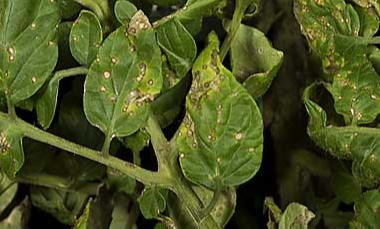Tomato Septoria leaf spot: (180, 26, 271, 190), (77, 10, 170, 137), (0, 0, 64, 116), (331, 52, 380, 129), (170, 0, 245, 26), (269, 197, 322, 229)
